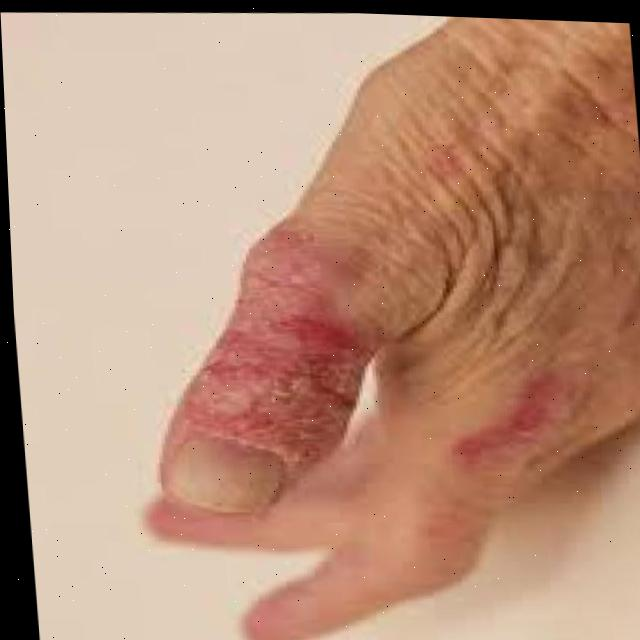Eczema: (147, 214, 380, 498), (425, 351, 581, 534)
